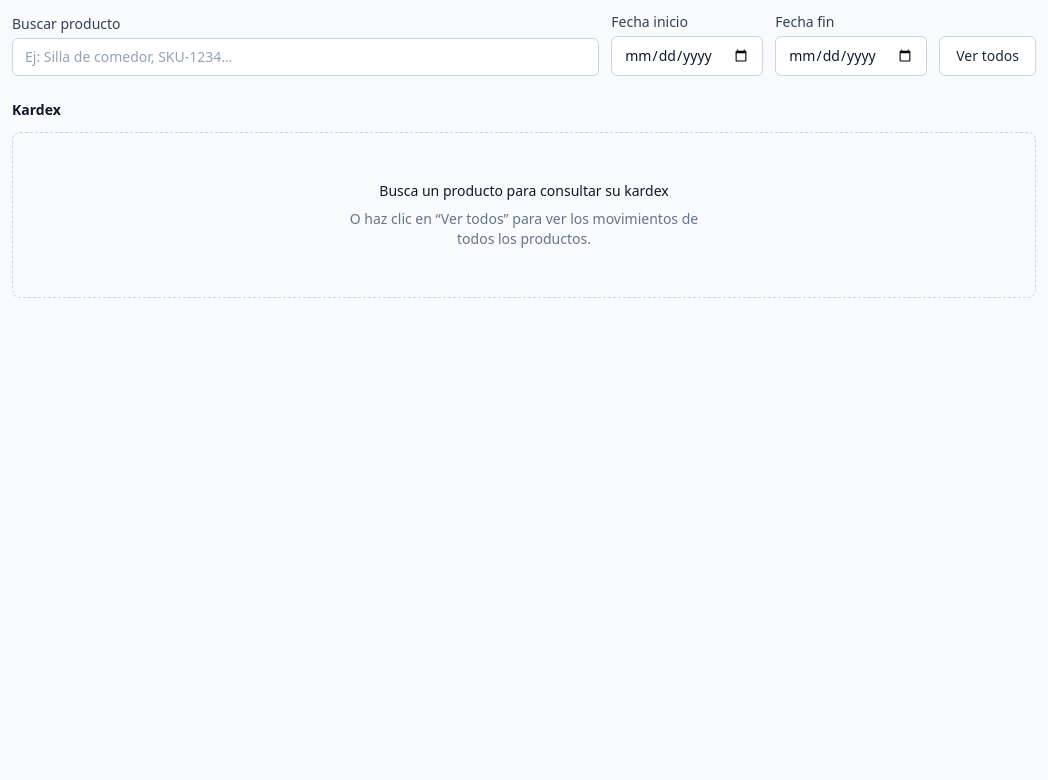
Test case: KardexExplorer › "Ver todos" shows a flat, tenant-wide movement feed with the same columns as the per-variant Kardex, plus Almacén
Click the button "Ver todos" at (988, 56), box top-left (939, 36), bottom-right (1036, 76)
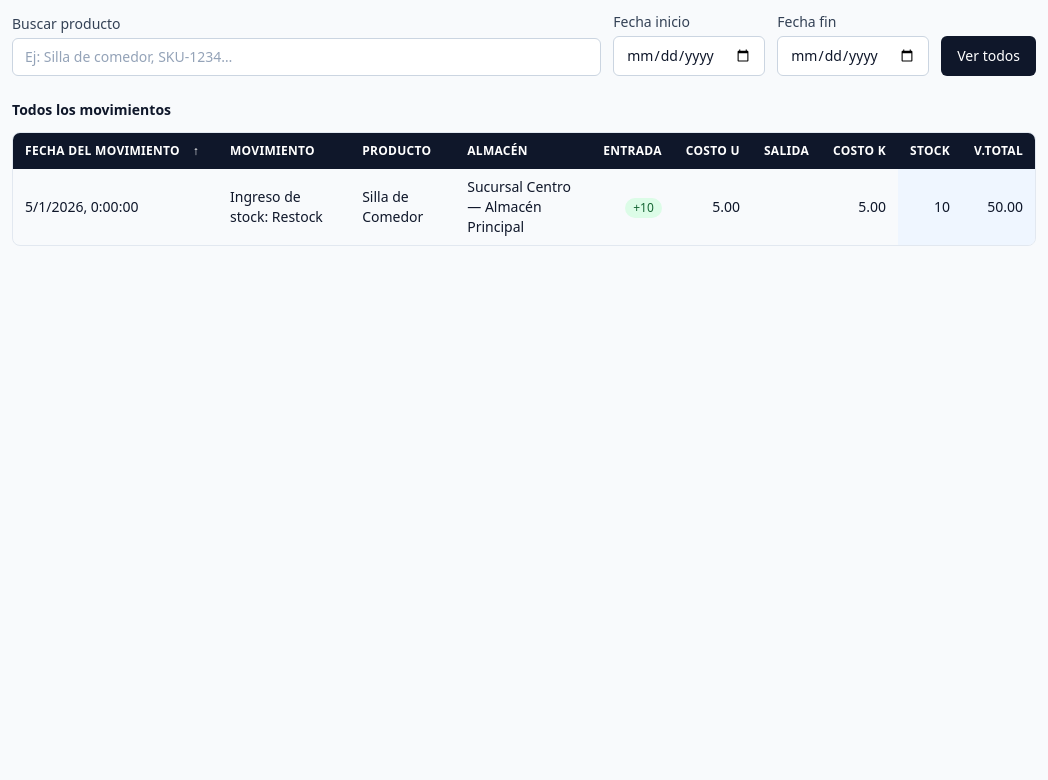
Expected: the heading "Todos los movimientos" is shown, top-left (12, 100), bottom-right (171, 120)
Expected: the text "Ingreso de stock: Restock" is shown, top-left (218, 169), bottom-right (350, 245)
Expected: the column heading "Almacén" is shown, top-left (455, 133), bottom-right (591, 169)
Type "Silla de Comedor" into the field labelled "Buscar producto" at (307, 57), box top-left (12, 38), bottom-right (601, 76)
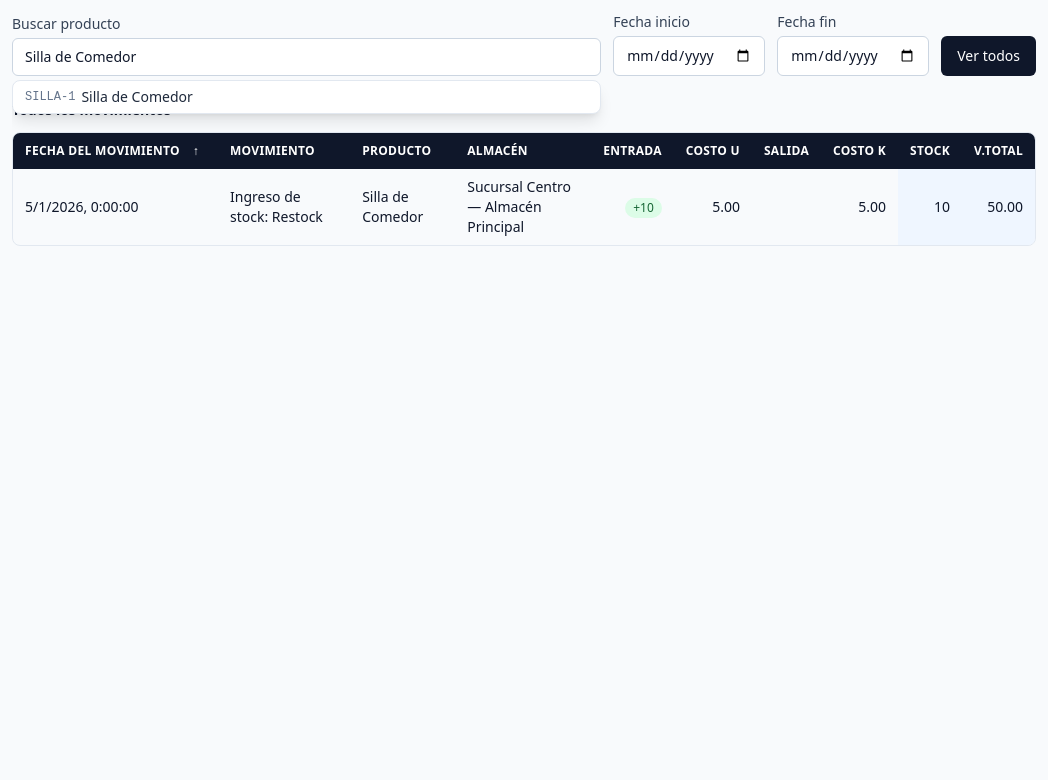
Click the button "SILLA-1 Silla de Comedor" at (50, 97), box top-left (17, 85), bottom-right (596, 109)
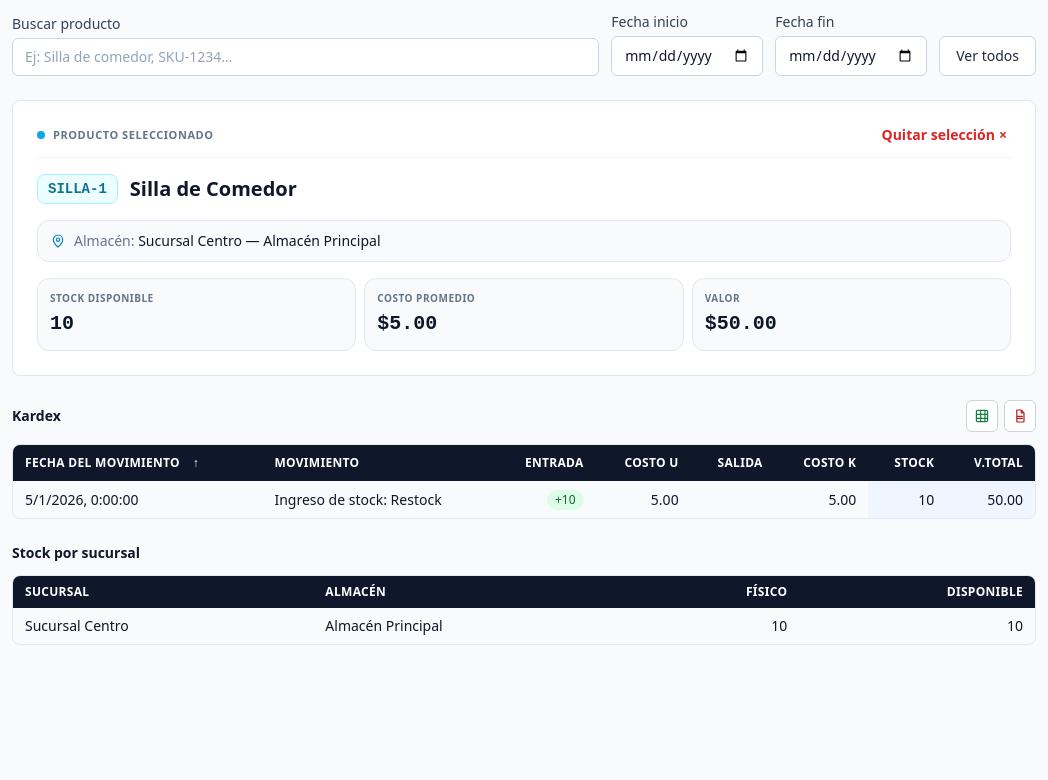
Expected: the text "Ingreso de stock: Restock" is shown, top-left (262, 481), bottom-right (495, 518)
Expected: the heading "Todos los movimientos" is gone
